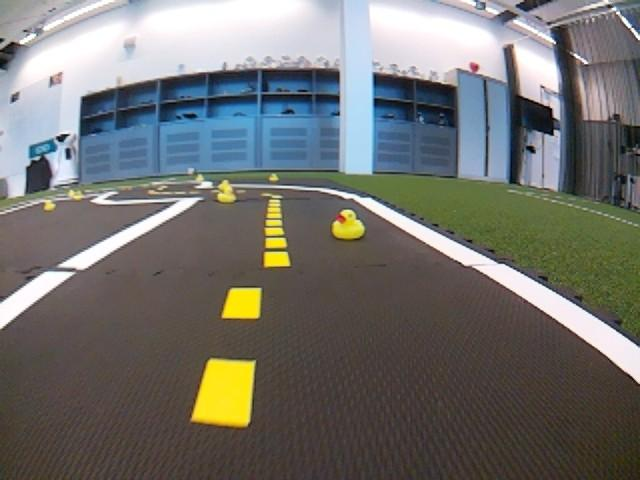Duckies: (331, 211, 364, 240), (218, 191, 236, 203), (68, 189, 82, 200), (219, 181, 233, 190), (44, 200, 56, 210), (269, 174, 278, 182), (195, 174, 203, 182)
